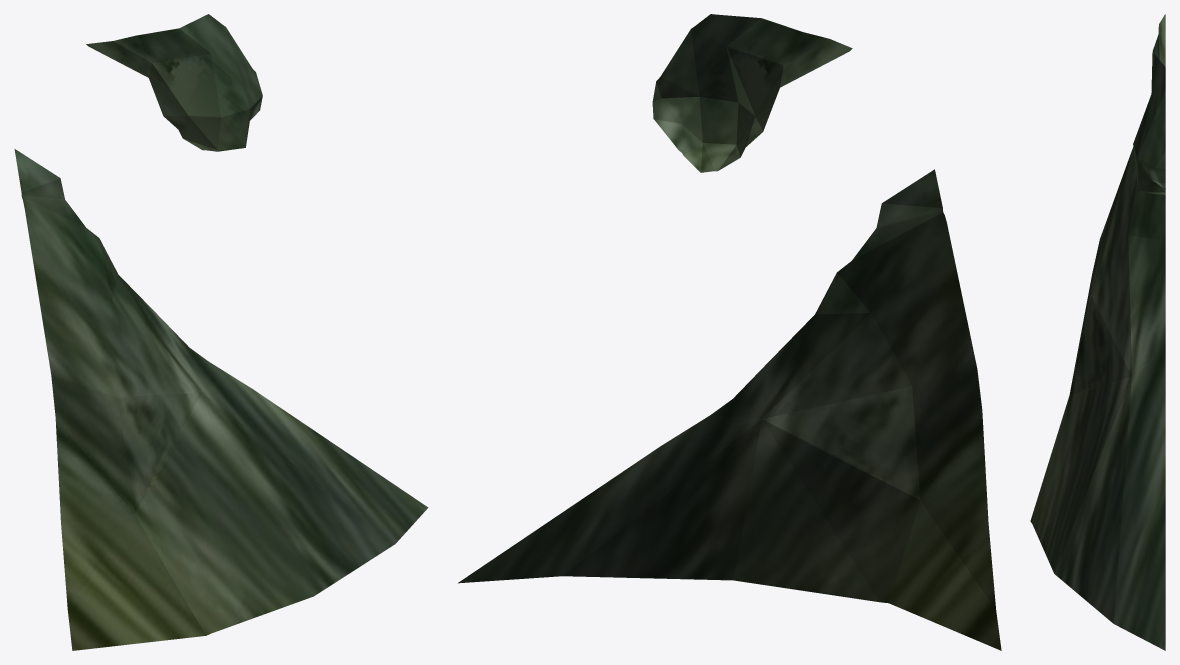
3 views of the same model, side by side, from view 1: azimuth 30°, elevation 25°; view 2: azimuth 150°, elevation 25°; view 3: azimuth 270°, elevation 25° (orthographic). The views are drawn at different scales.
Size of the model in its own units: 2.34 by 2.95 by 0.7406.
Materials: 1 (1 with a texture image).
